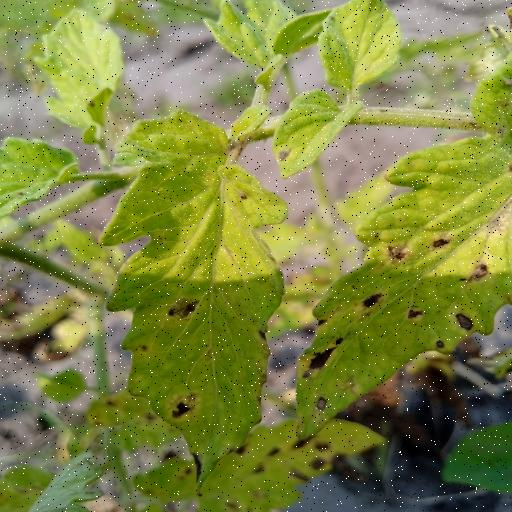Tomato_Brown_Spots: (284, 60, 512, 451), (92, 108, 292, 508)
